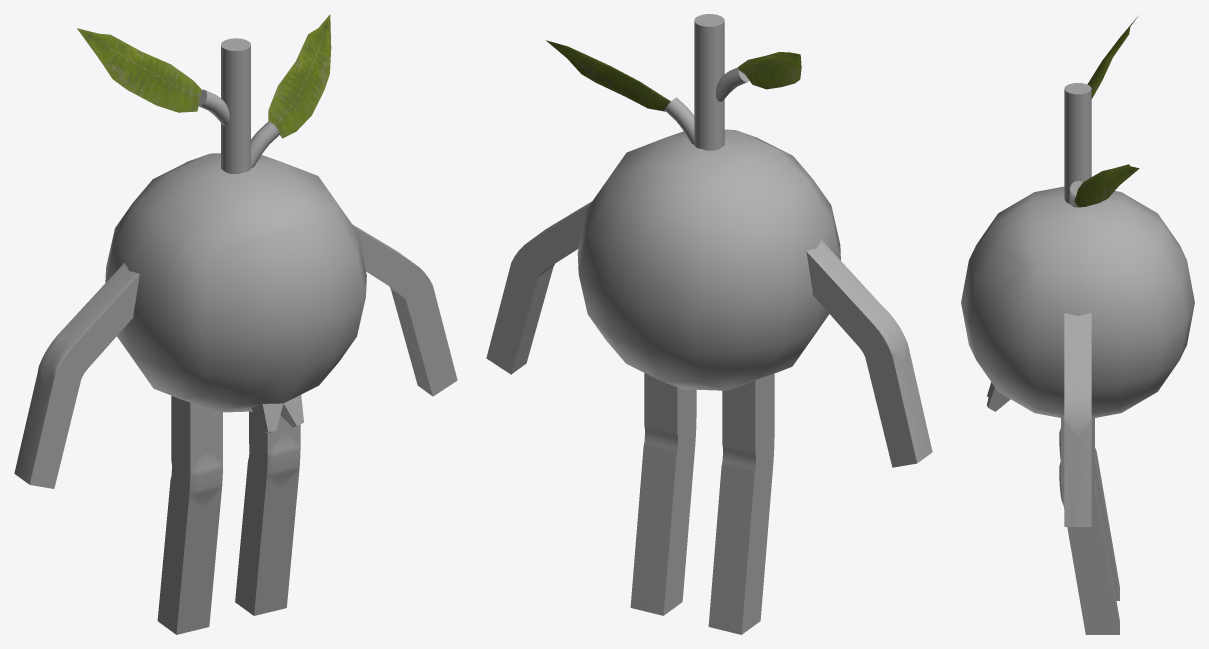
The model's file is Main_Char_1.fbx.
The picture shows the model from 3 angles, left to right: view 1: azimuth 30°, elevation 25°; view 2: azimuth 150°, elevation 25°; view 3: azimuth 270°, elevation 25°; orthographic projection. The views are drawn at different scales.
Parts seen in each view (by area): view 1: Main_Char_1; view 2: Main_Char_1; view 3: Main_Char_1.
Part boxes in pixels (x1,y1,x2,y2): Main_Char_1: (14, 14, 457, 634); Main_Char_1: (486, 14, 932, 634); Main_Char_1: (961, 16, 1194, 634).
Bounding box in the file's own units: 148 × 198 × 77.64.
